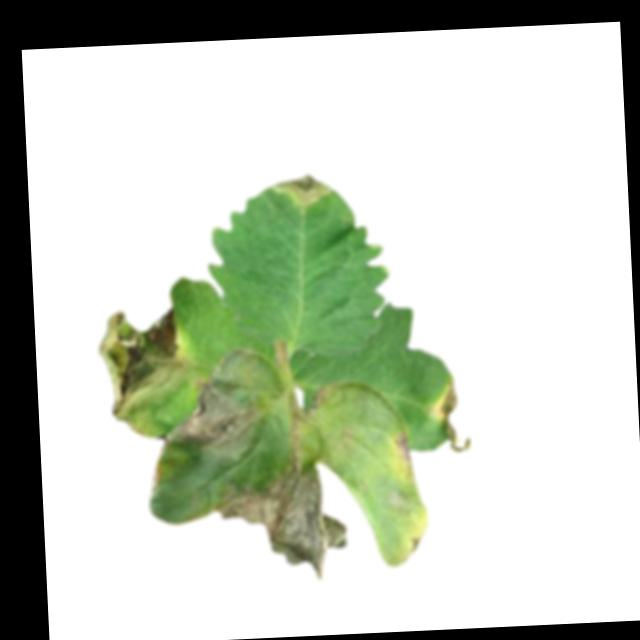Late_blight: (226, 461, 347, 585), (91, 308, 189, 435), (159, 348, 264, 461), (432, 382, 473, 457), (271, 171, 333, 208), (141, 447, 165, 493), (391, 427, 416, 470), (305, 383, 331, 412)
